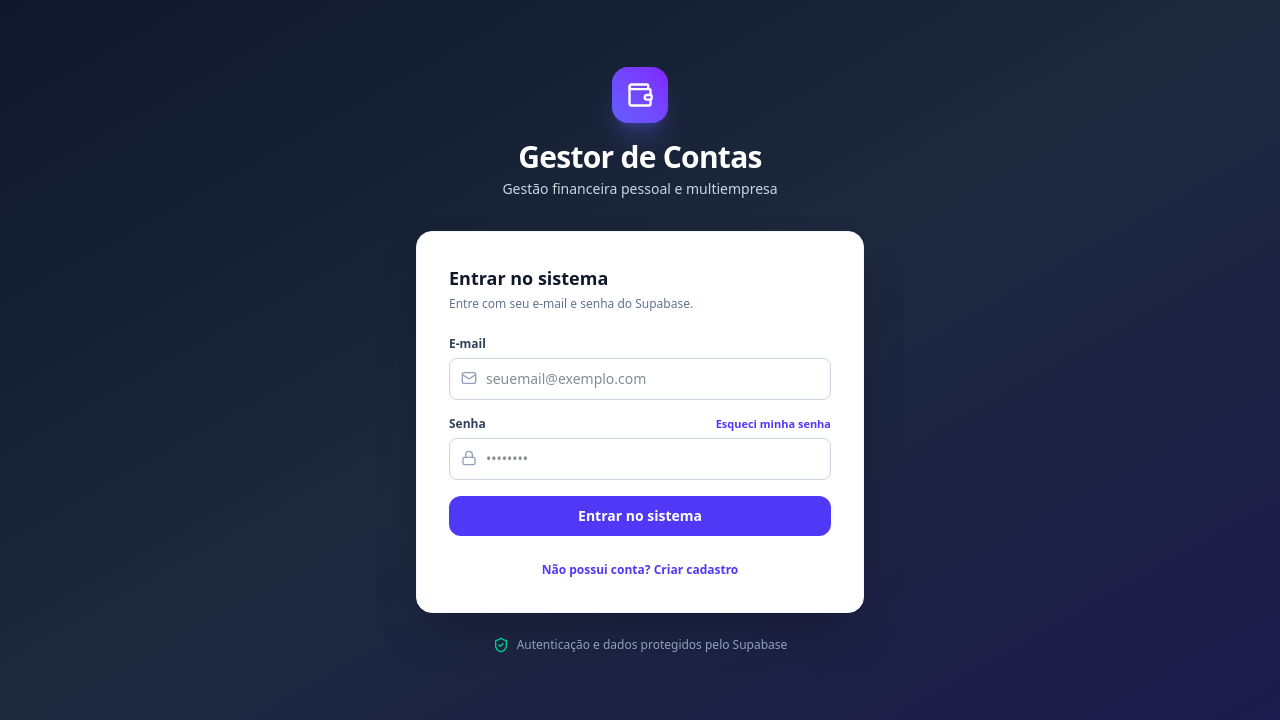
explains network failures and permits another login attempt
The width and height of the screenshot is (1280, 720).
Check: the button "Entrar no sistema" is shown, box [449,496,831,536]
Type "test@example.com" into the field with placeholder "seuemail@exemplo.com". click: [640, 379]
box: [449,358,831,400]
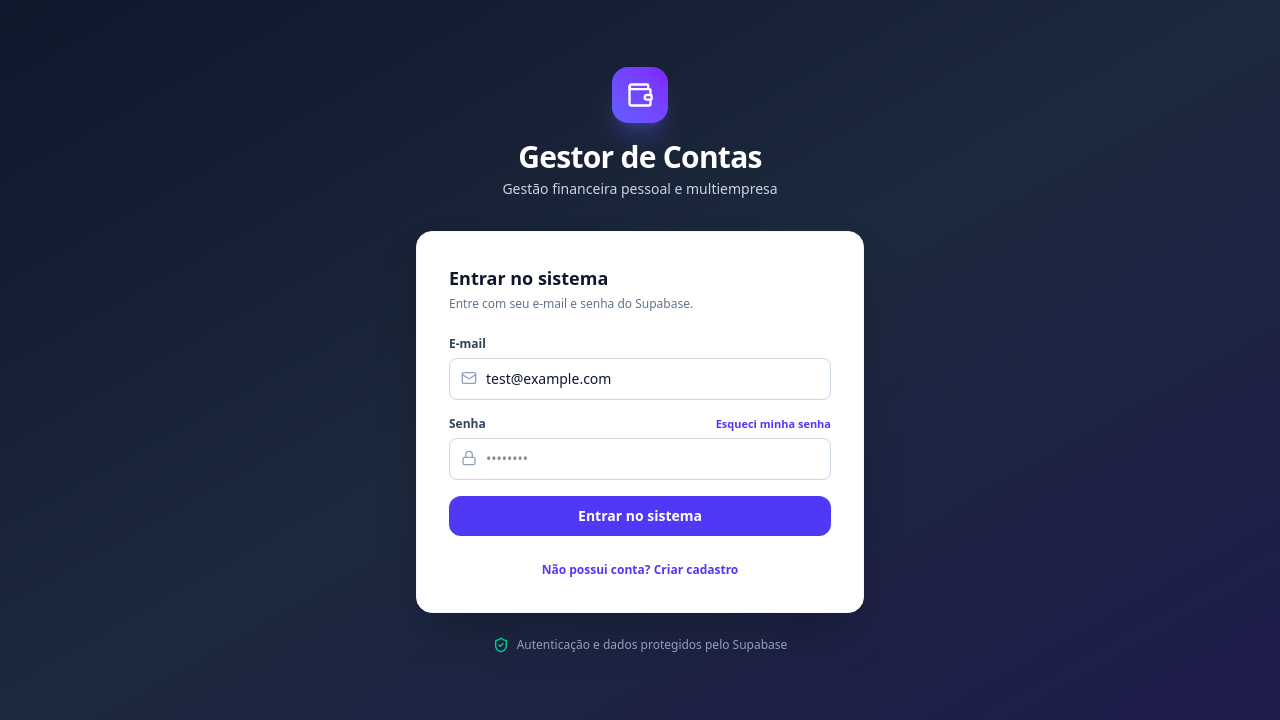
Type "invalid-password" into the password field with placeholder "••••••••". click: [640, 459]
box: [449,438,831,480]
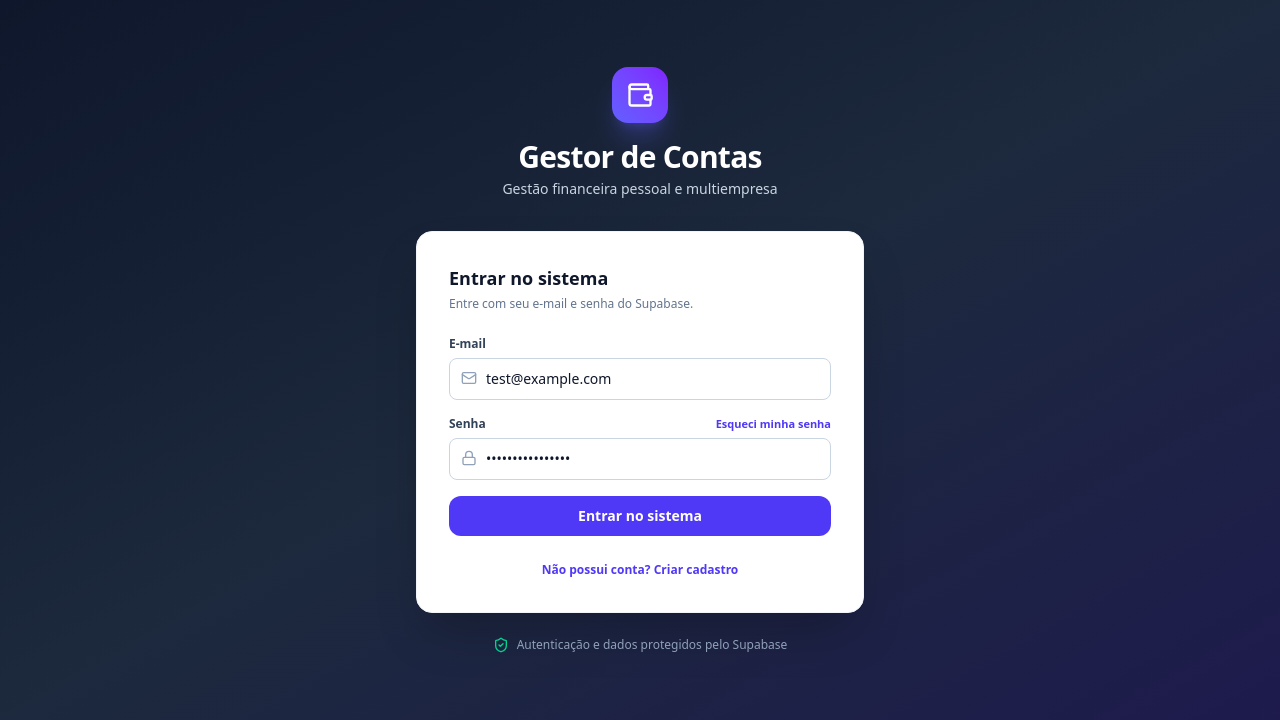
Click the button "Entrar no sistema". click: [640, 516]
box: [449,496,831,536]
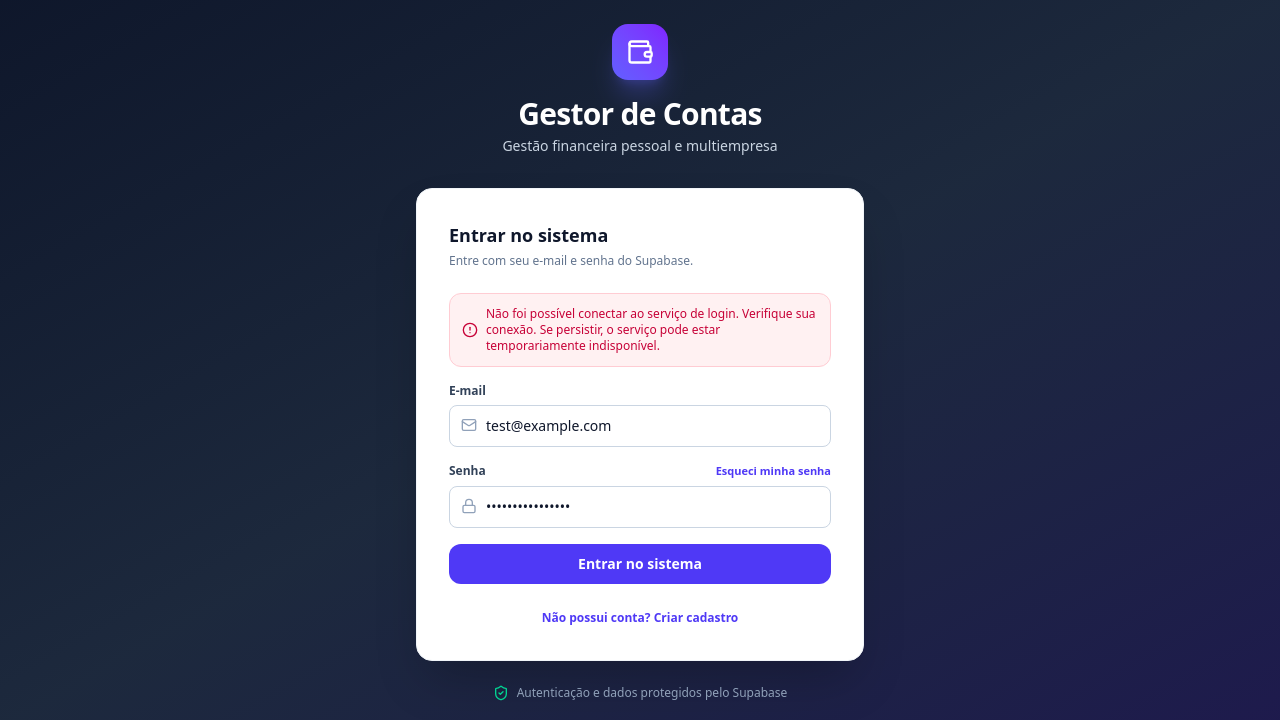
Check: the button "Entrar no sistema" is enabled, box [449,544,831,584]
Check: the text "Não foi possível conectar ao serviço de login" is shown, box [486,305,816,354]
